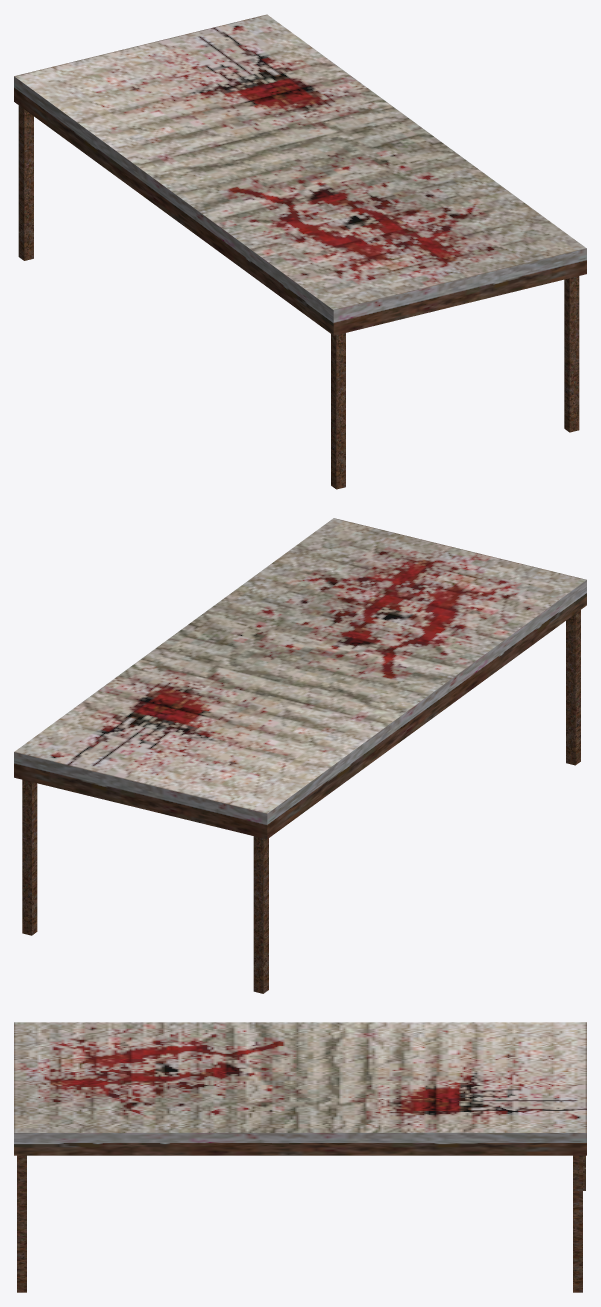
The model's file is low_poly_prisoner_bed_psx.glb.
3 views of the same model, one above another, from view 1: azimuth 30°, elevation 25°; view 2: azimuth 150°, elevation 25°; view 3: azimuth 270°, elevation 25° (orthographic). The views are drawn at different scales.
Visible parts, largest first — view 1: SM_PrisonBed; view 2: SM_PrisonBed; view 3: SM_PrisonBed.
Boxes of the visible parts, x1,y1,x2,y2 form: SM_PrisonBed: (14, 14, 586, 489); SM_PrisonBed: (14, 518, 586, 993); SM_PrisonBed: (14, 1022, 586, 1292).
Bounding box in the file's own units: 1.05 × 0.7211 × 2.3.
1 material, 1 textured.
